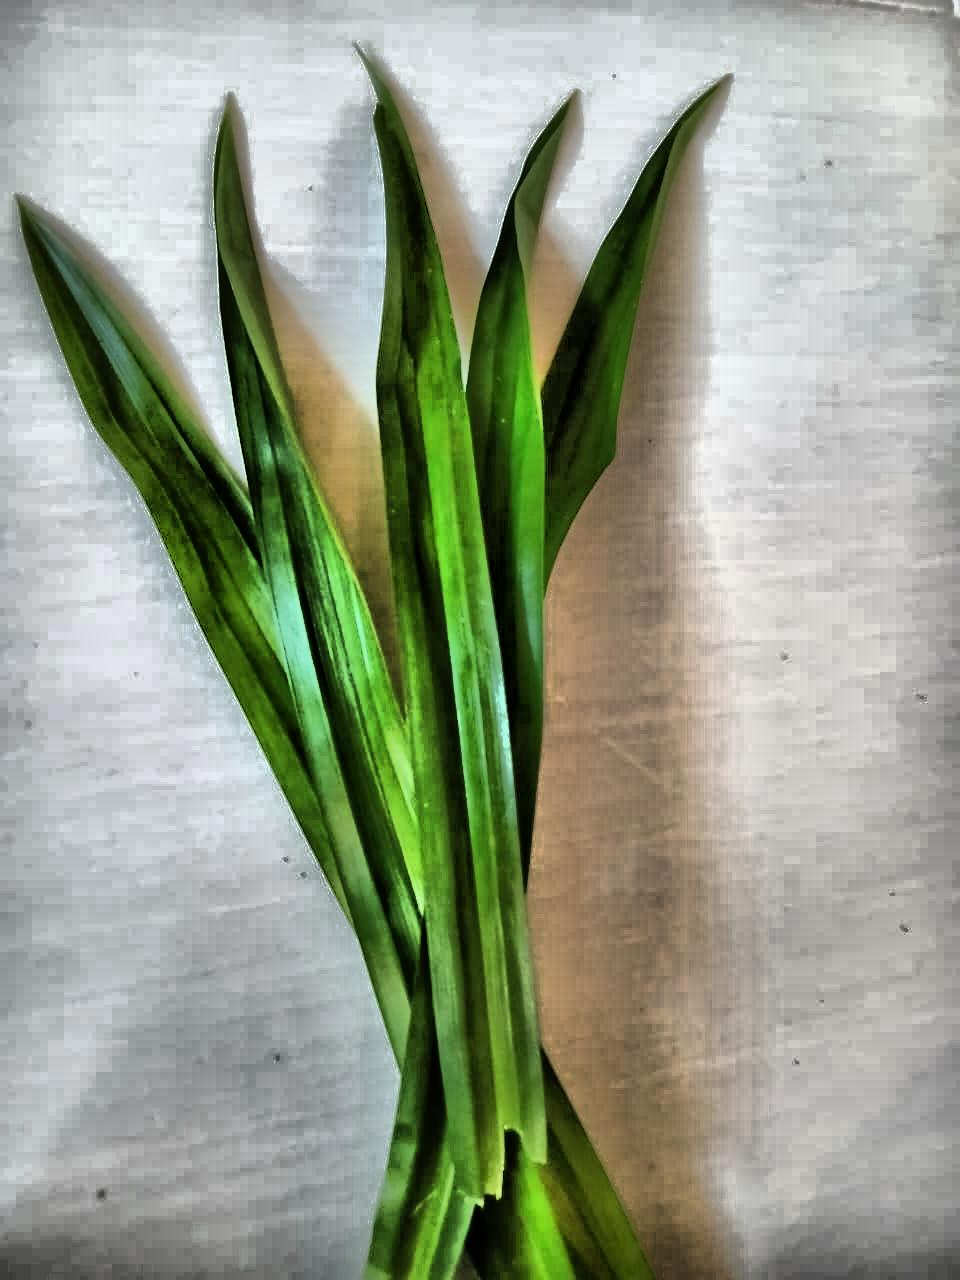daun pandan: (21, 81, 655, 1279), (544, 89, 713, 543)
